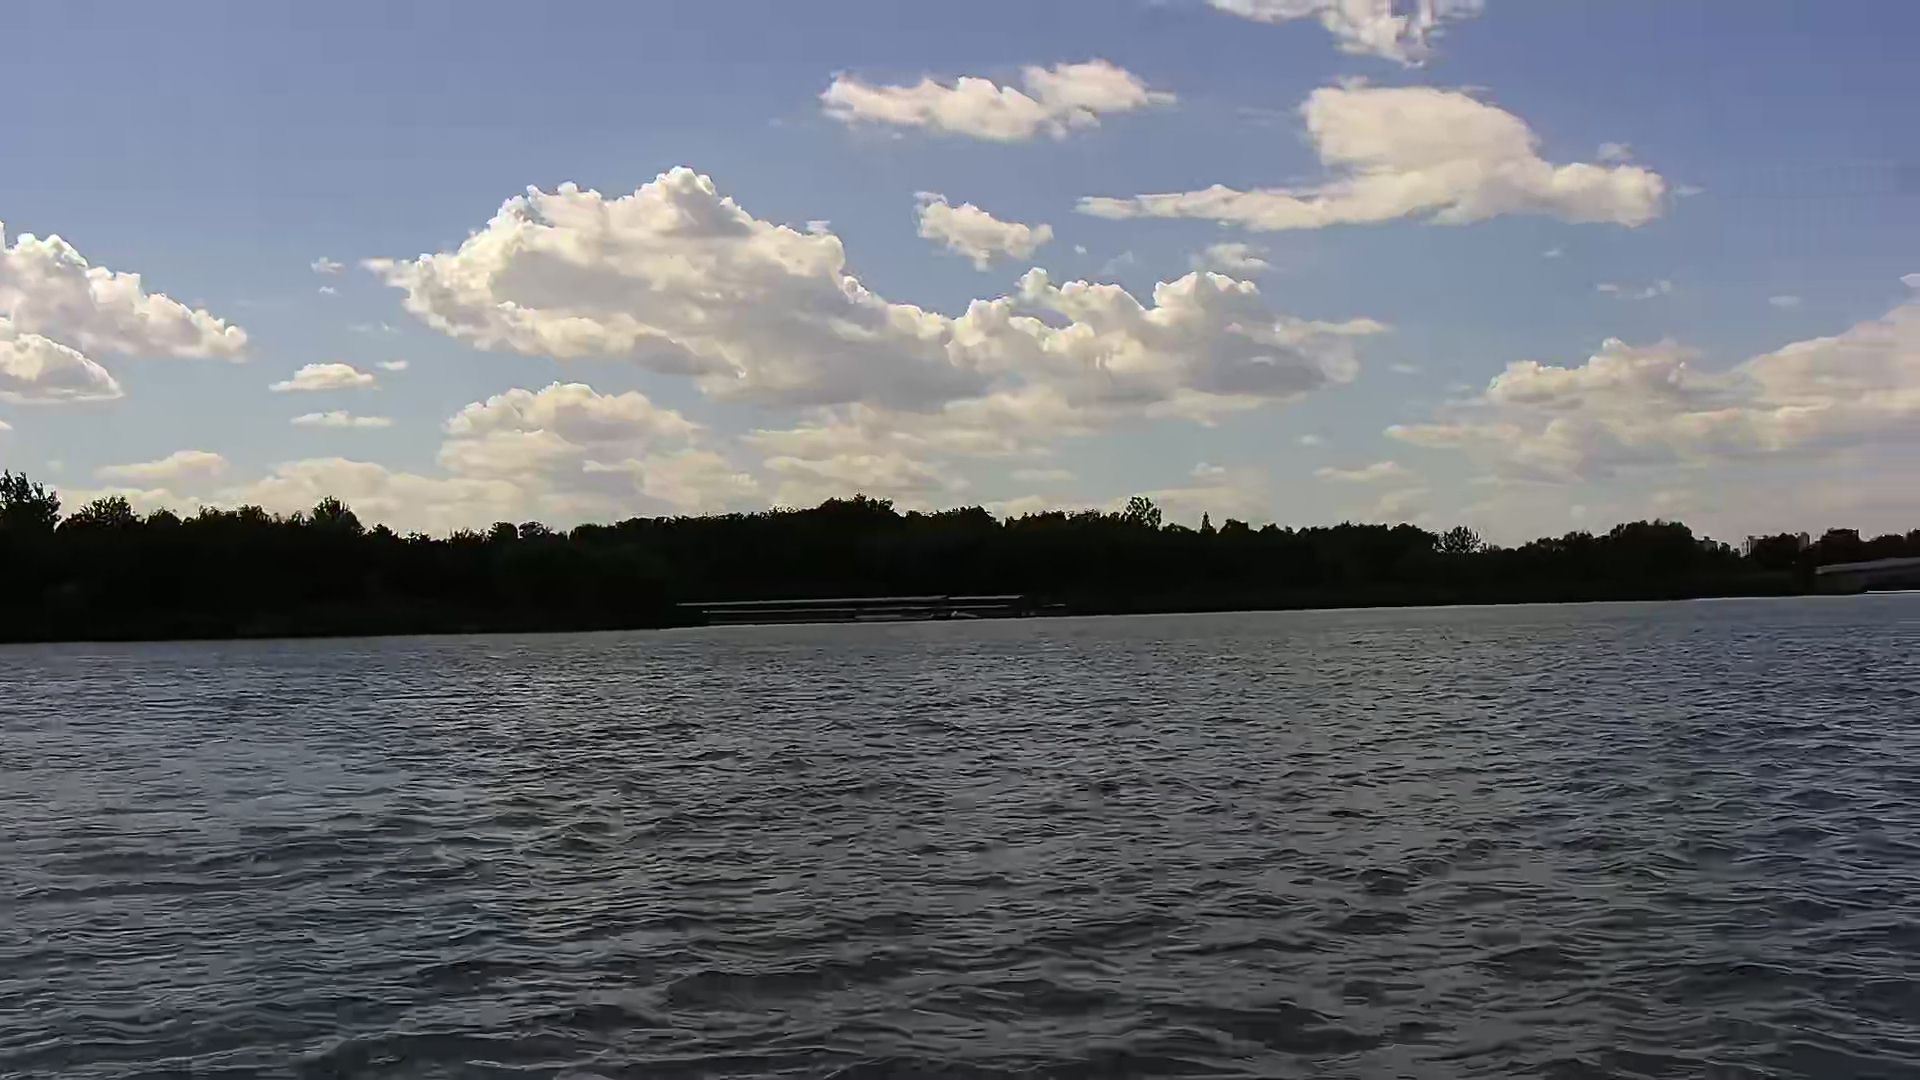bridge: (687, 597, 1015, 622)
